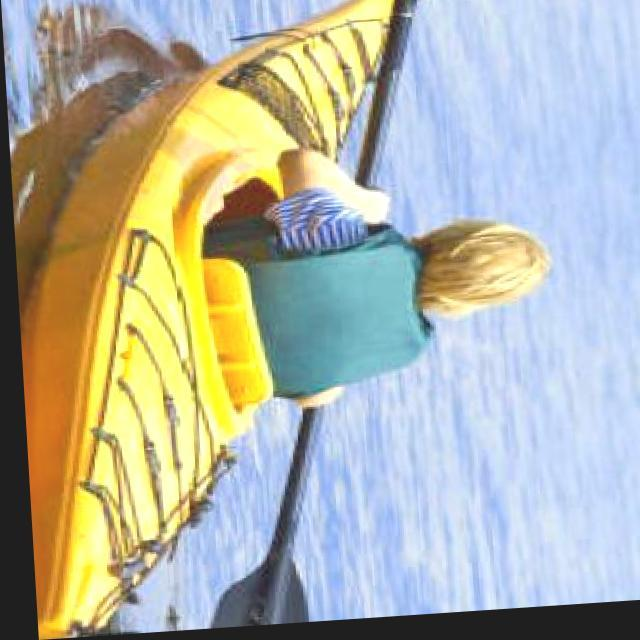kayak: (16, 0, 396, 640)
